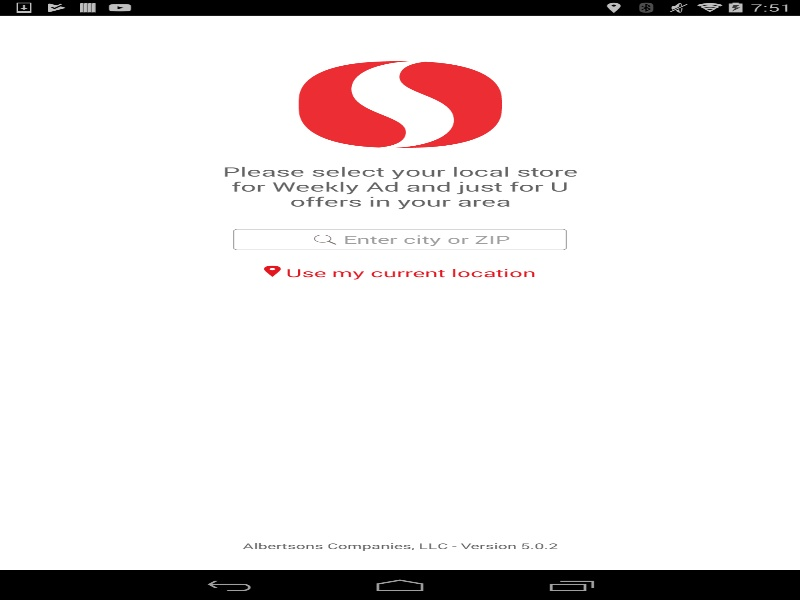Input: (246, 232, 553, 246)
